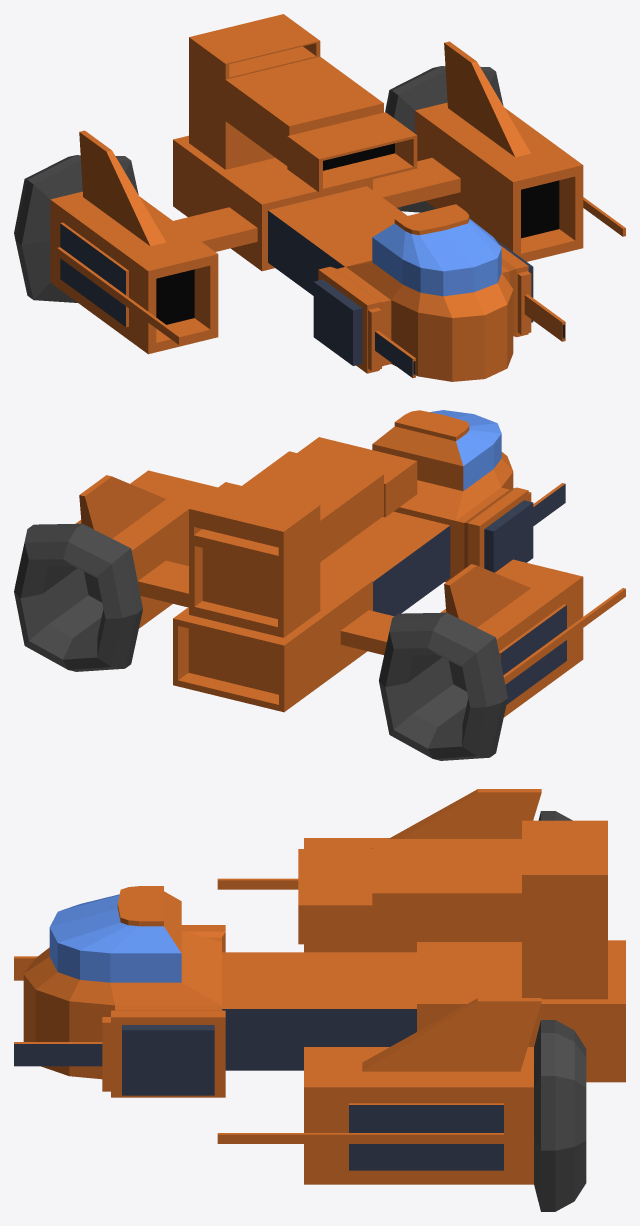
The model's file is OrbitalRaptor.glb.
3 views of the same model, one above another, from view 1: azimuth 30°, elevation 25°; view 2: azimuth 150°, elevation 25°; view 3: azimuth 270°, elevation 25° (orthographic). The views are drawn at different scales.
Visible parts, largest first — view 1: OrbitalRaptor; view 2: OrbitalRaptor; view 3: OrbitalRaptor.
Part boxes in pixels (x1,y1,x2,y2): OrbitalRaptor: [14, 14, 625, 381]; OrbitalRaptor: [14, 410, 625, 760]; OrbitalRaptor: [14, 789, 625, 1211].
Size of the model in its own units: 58.11 by 24.26 by 53.94.
1 material, 1 textured.
